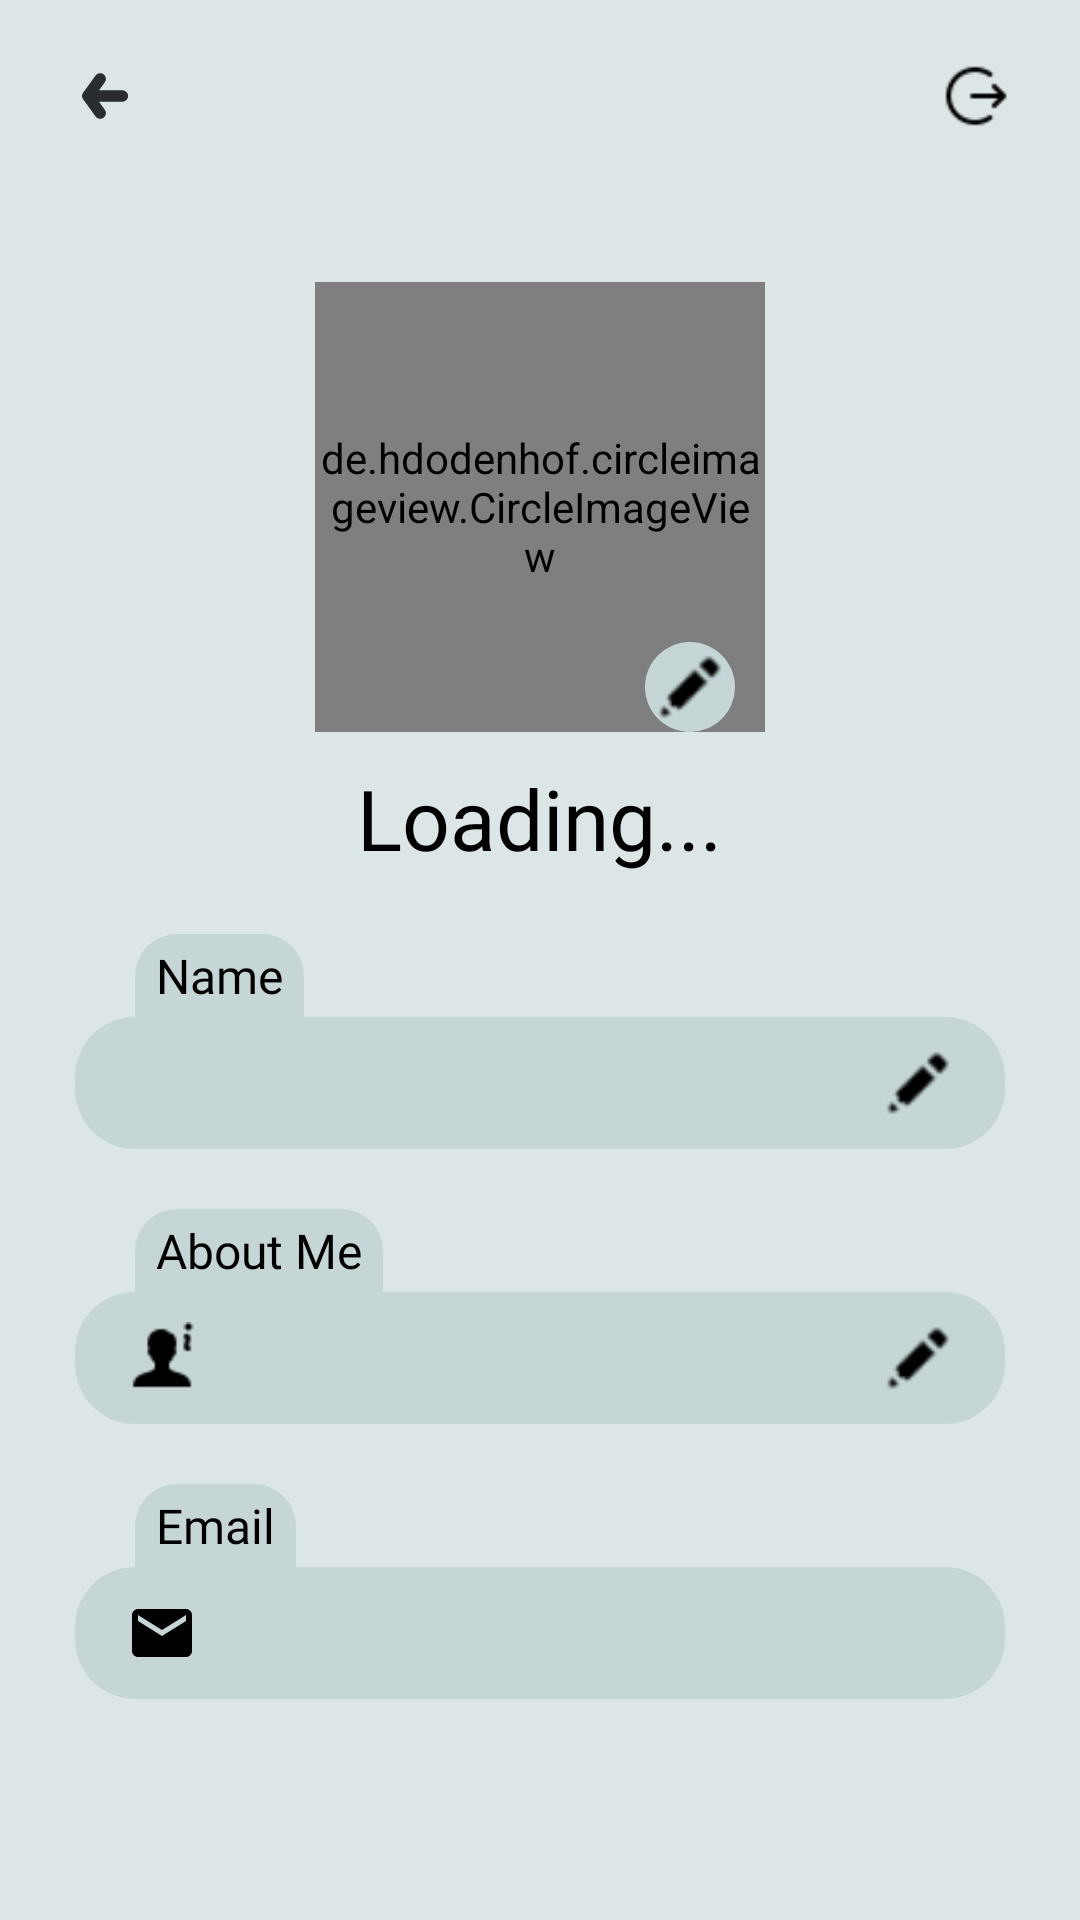

Icon click points for this 1080*1920 phone screenshot, format (x,y):
back arrow: (105,96)
edit: (690,687), (918,1083), (918,1358)
user info: (163,1355)
